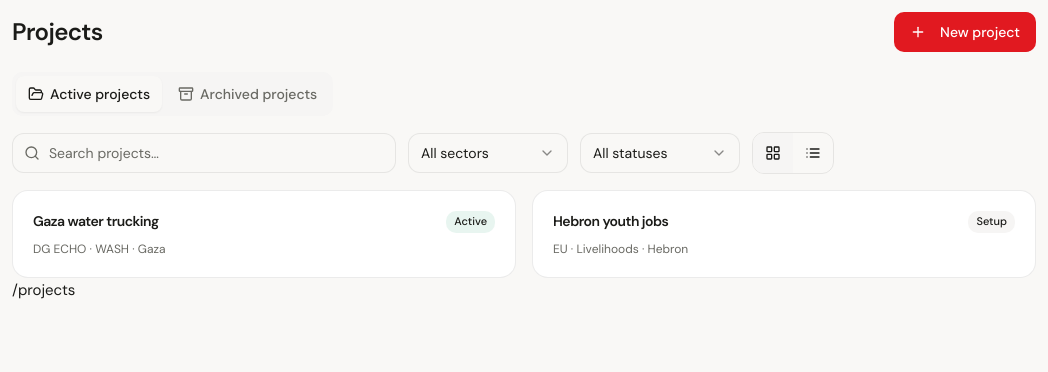
it: Active and archived projects › switches to archived projects, with an Archived badge (text and icon) and the view in the address
Expected: the heading "Gaza water trucking" is shown, [33,211,159,231]
Step 1. Click the tab "Archived projects" → (248, 94), box [166,76,329,112]
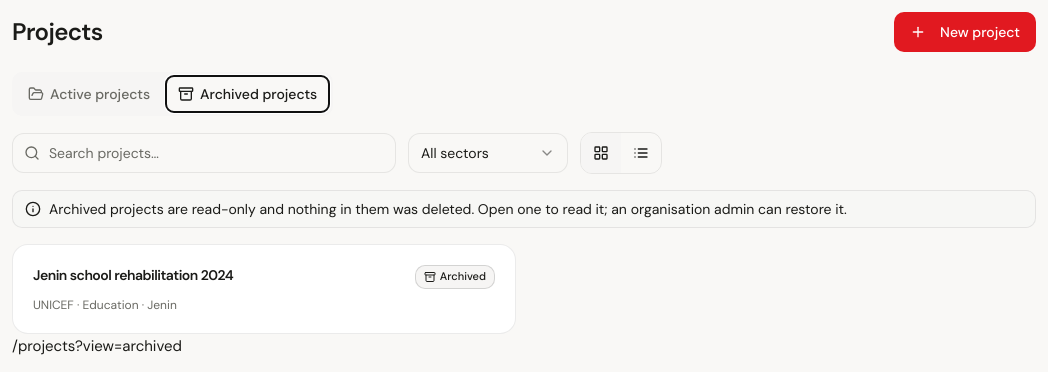
Result: the heading "Jenin school rehabilitation 2024" is shown at [33,265,233,285]
Result: the link "Gaza water trucking" is gone
Result: the text "Archived projects are read-only and nothing in them was deleted" is shown at [49,200,847,218]
